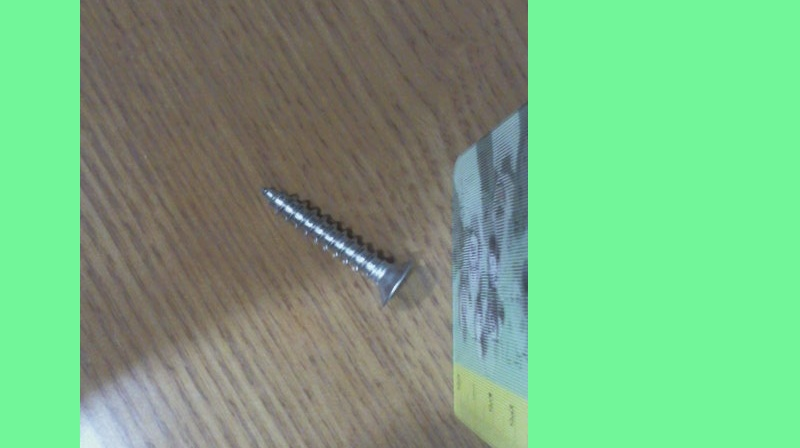S001: (253, 179, 422, 310)
